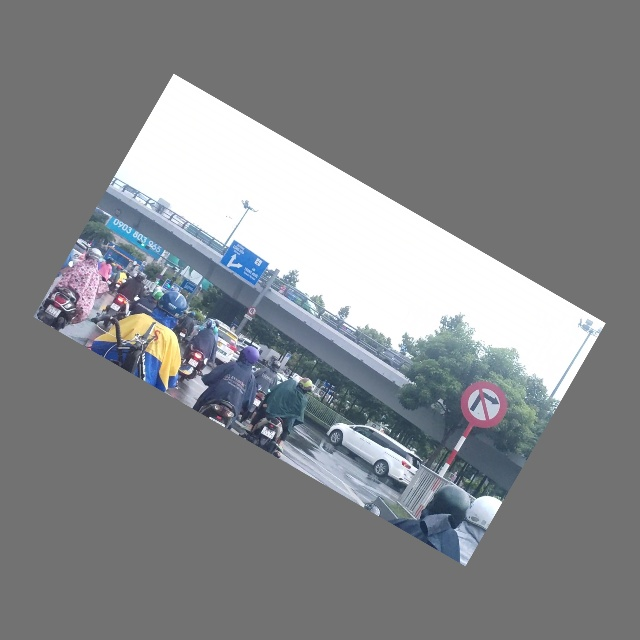P.123b: (451, 370, 521, 440)
P.124b1: (246, 304, 260, 318)
